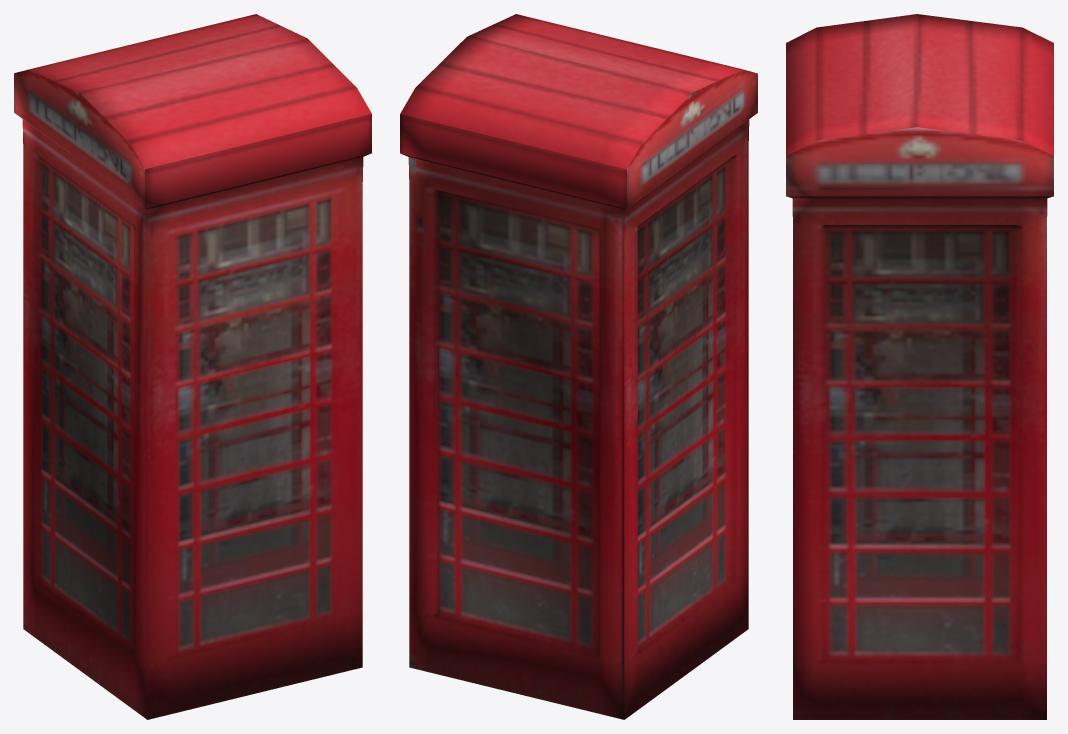
Rendered from PFB-Street-Decor-Pack-02-Phone-Box-Red.fbx.
The picture shows the model from 3 angles, left to right: view 1: azimuth 30°, elevation 25°; view 2: azimuth 150°, elevation 25°; view 3: azimuth 270°, elevation 25°; orthographic projection. The views are drawn at different scales.
Parts seen in each view (by area): view 1: Phone-Box-Red; view 2: Phone-Box-Red; view 3: Phone-Box-Red.
Boxes of the visible parts, bbox=[...] form: Phone-Box-Red: bbox=[14, 14, 371, 719]; Phone-Box-Red: bbox=[400, 14, 757, 719]; Phone-Box-Red: bbox=[786, 14, 1053, 719].
Size of the model in its own units: 12.48 by 30.63 by 12.48.
